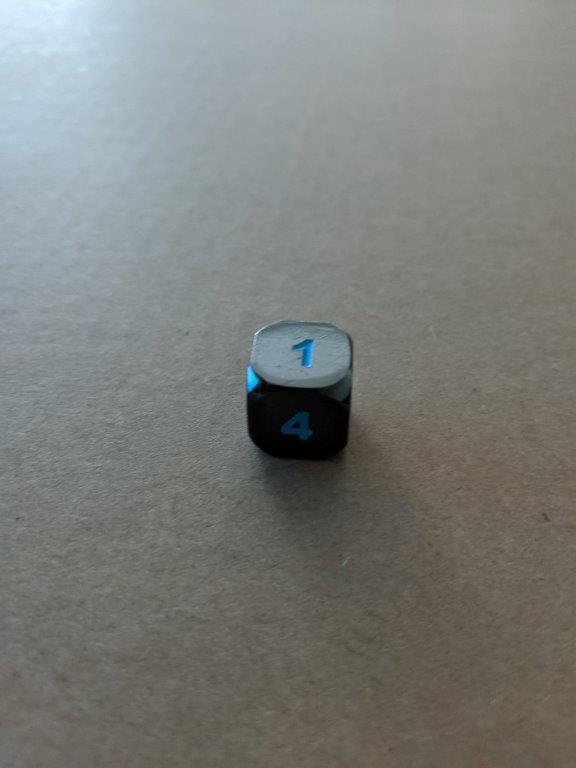d6-1: (242, 318, 353, 461)
